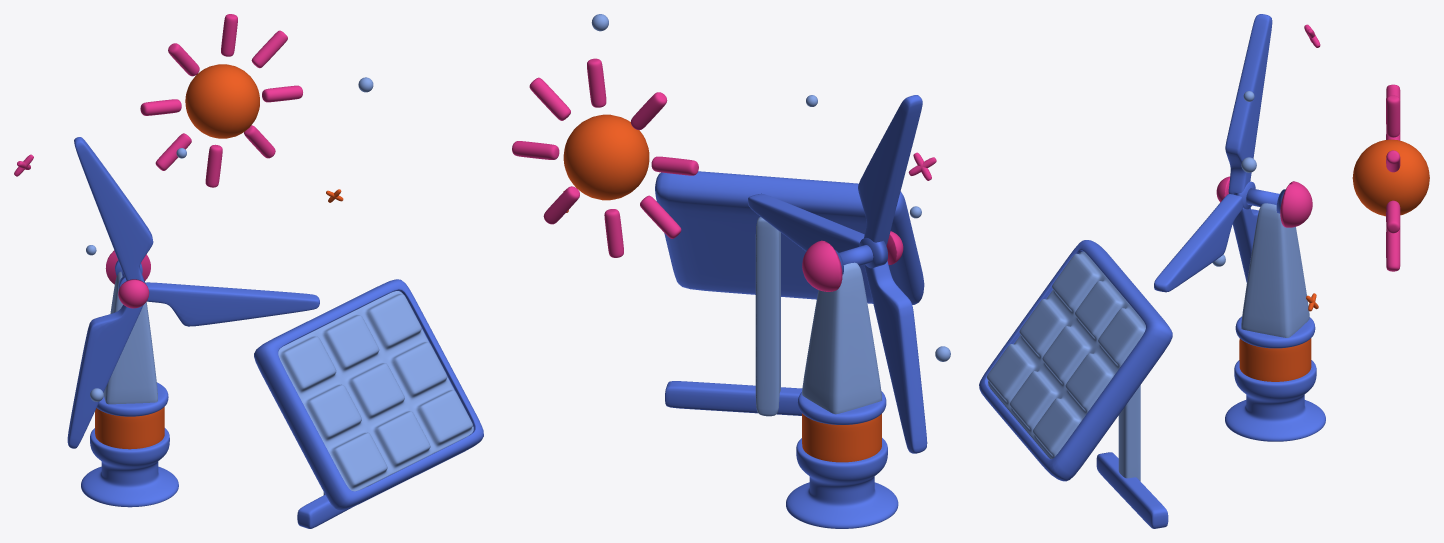
Rendered from renewable-energy-3d-animated-icon-1573611422151.glb.
The picture shows the model from 3 angles, left to right: view 1: azimuth 30°, elevation 25°; view 2: azimuth 150°, elevation 25°; view 3: azimuth 270°, elevation 25°; orthographic projection. The views are drawn at different scales.
Visible parts, largest first — view 1: solar panel.001, sun, wind turbine.001, wind turbine.005, wind turbine.007, wind turbine.008, wind turbine.002, wind turbine.009, wind turbine.006, solar panel, wind turbine.003; view 2: solar panel.001, sun, wind turbine.002, wind turbine.001, wind turbine.007, solar panel.003, wind turbine.008, wind turbine.005, solar panel, wind turbine.009, wind turbine.004, wind turbine.006 (+1 smaller); view 3: solar panel.001, wind turbine.002, sun, wind turbine.001, wind turbine.008, wind turbine.005, wind turbine.009, solar panel, solar panel.003, wind turbine.004, wind turbine.006, wind turbine.007.
Boxes of the visible parts, left/top/right/bottom form: solar panel.001: left=254, top=279, right=483, bottom=510; sun: left=140, top=14, right=302, bottom=187; wind turbine.001: left=81, top=428, right=178, bottom=507; wind turbine.005: left=145, top=282, right=319, bottom=326; wind turbine.007: left=67, top=305, right=143, bottom=448; wind turbine.008: left=74, top=137, right=153, bottom=282; wind turbine.002: left=103, top=271, right=157, bottom=404; wind turbine.009: left=95, top=407, right=164, bottom=449; wind turbine.006: left=96, top=382, right=168, bottom=416; solar panel: left=297, top=495, right=354, bottom=528; wind turbine.003: left=118, top=279, right=149, bottom=308; solar panel.001: left=655, top=171, right=924, bottom=304; sun: left=512, top=58, right=698, bottom=257; wind turbine.002: left=802, top=262, right=881, bottom=414; wind turbine.001: left=786, top=438, right=898, bottom=528; wind turbine.007: left=864, top=261, right=927, bottom=453; solar panel.003: left=755, top=217, right=780, bottom=416; wind turbine.008: left=858, top=95, right=922, bottom=245; wind turbine.005: left=748, top=193, right=864, bottom=252; solar panel: left=665, top=381, right=802, bottom=415; wind turbine.009: left=802, top=413, right=881, bottom=462; wind turbine.004: left=802, top=240, right=842, bottom=291; wind turbine.006: left=797, top=391, right=886, bottom=424; solar panel.001: left=979, top=240, right=1172, bottom=481; wind turbine.002: left=1241, top=203, right=1309, bottom=337; sun: left=1352, top=84, right=1429, bottom=271; wind turbine.001: left=1225, top=360, right=1325, bottom=441; wind turbine.008: left=1225, top=14, right=1272, bottom=194; wind turbine.005: left=1154, top=194, right=1242, bottom=292; wind turbine.009: left=1239, top=338, right=1311, bottom=381; solar panel: left=1096, top=452, right=1168, bottom=528; solar panel.003: left=1118, top=385, right=1140, bottom=481; wind turbine.004: left=1280, top=181, right=1312, bottom=227; wind turbine.006: left=1235, top=316, right=1315, bottom=348; wind turbine.007: left=1232, top=207, right=1258, bottom=282.
Size of the model in its own units: 5.07 by 5.56 by 5.57.
